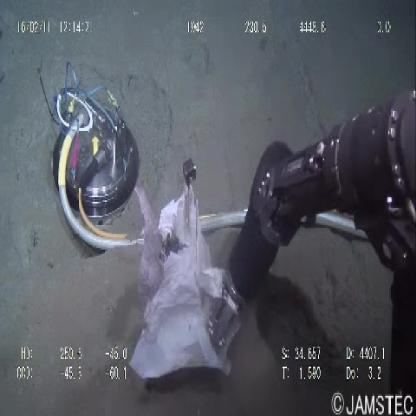Rov: (204, 83, 416, 354), (37, 56, 143, 254)
Rác: (127, 160, 240, 387)
